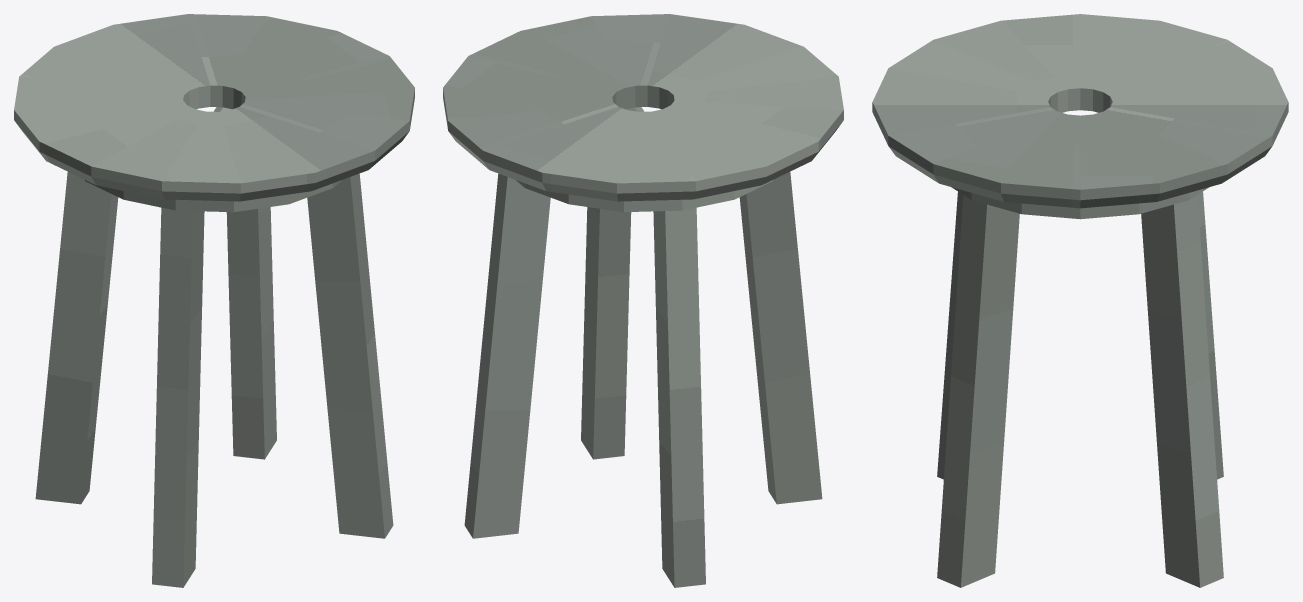
Rendered from plastic-round-stool.glb.
The picture shows the model from 3 angles, left to right: view 1: azimuth 30°, elevation 25°; view 2: azimuth 150°, elevation 25°; view 3: azimuth 270°, elevation 25°; orthographic projection. The views are drawn at different scales.
Parts seen in each view (by area): view 1: plastic-round-stool/moulded-seat-with-finger-hole, plastic-round-stool/moulded-leg-3, plastic-round-stool/moulded-leg-1, plastic-round-stool/moulded-leg-2, plastic-round-stool/moulded-leg-0, plastic-round-stool/underside-seat-rib; view 2: plastic-round-stool/moulded-seat-with-finger-hole, plastic-round-stool/moulded-leg-0, plastic-round-stool/moulded-leg-2, plastic-round-stool/moulded-leg-1, plastic-round-stool/moulded-leg-3, plastic-round-stool/underside-seat-rib; view 3: plastic-round-stool/moulded-seat-with-finger-hole, plastic-round-stool/moulded-leg-0, plastic-round-stool/moulded-leg-3, plastic-round-stool/underside-seat-rib, plastic-round-stool/moulded-leg-1, plastic-round-stool/moulded-leg-2.
Part boxes in pixels (bbox=[...]): plastic-round-stool/moulded-seat-with-finger-hole: bbox=[14, 14, 414, 201]; plastic-round-stool/moulded-leg-3: bbox=[307, 173, 393, 538]; plastic-round-stool/moulded-leg-1: bbox=[35, 172, 118, 504]; plastic-round-stool/moulded-leg-2: bbox=[152, 207, 204, 587]; plastic-round-stool/moulded-leg-0: bbox=[226, 207, 276, 459]; plastic-round-stool/underside-seat-rib: bbox=[84, 179, 341, 212]; plastic-round-stool/moulded-seat-with-finger-hole: bbox=[443, 14, 843, 201]; plastic-round-stool/moulded-leg-0: bbox=[464, 173, 550, 538]; plastic-round-stool/moulded-leg-2: bbox=[739, 172, 822, 504]; plastic-round-stool/moulded-leg-1: bbox=[653, 207, 705, 587]; plastic-round-stool/moulded-leg-3: bbox=[581, 207, 631, 459]; plastic-round-stool/underside-seat-rib: bbox=[516, 179, 773, 212]; plastic-round-stool/moulded-seat-with-finger-hole: bbox=[872, 14, 1288, 208]; plastic-round-stool/moulded-leg-0: bbox=[1141, 195, 1223, 587]; plastic-round-stool/moulded-leg-3: bbox=[937, 195, 1019, 587]; plastic-round-stool/underside-seat-rib: bbox=[951, 187, 1209, 219]; plastic-round-stool/moulded-leg-1: bbox=[1197, 191, 1223, 479]; plastic-round-stool/moulded-leg-2: bbox=[937, 191, 963, 479].
Bounding box in the file's own units: 0.36 × 0.4062 × 0.36.
1 material, 1 textured.
